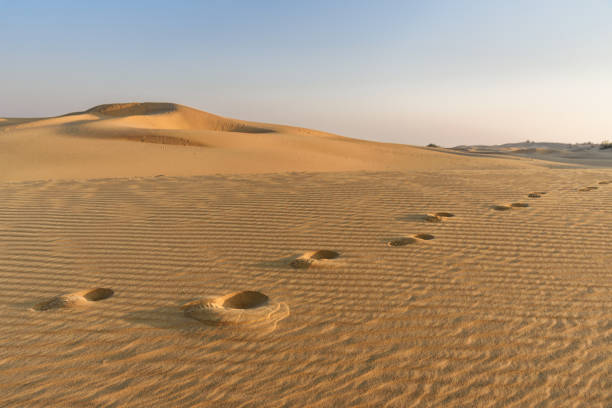human_foot_print: (181, 290, 288, 329), (32, 288, 113, 310), (290, 249, 339, 267), (387, 233, 434, 246), (423, 212, 455, 223), (491, 202, 528, 210), (579, 186, 597, 191), (527, 192, 545, 197)
